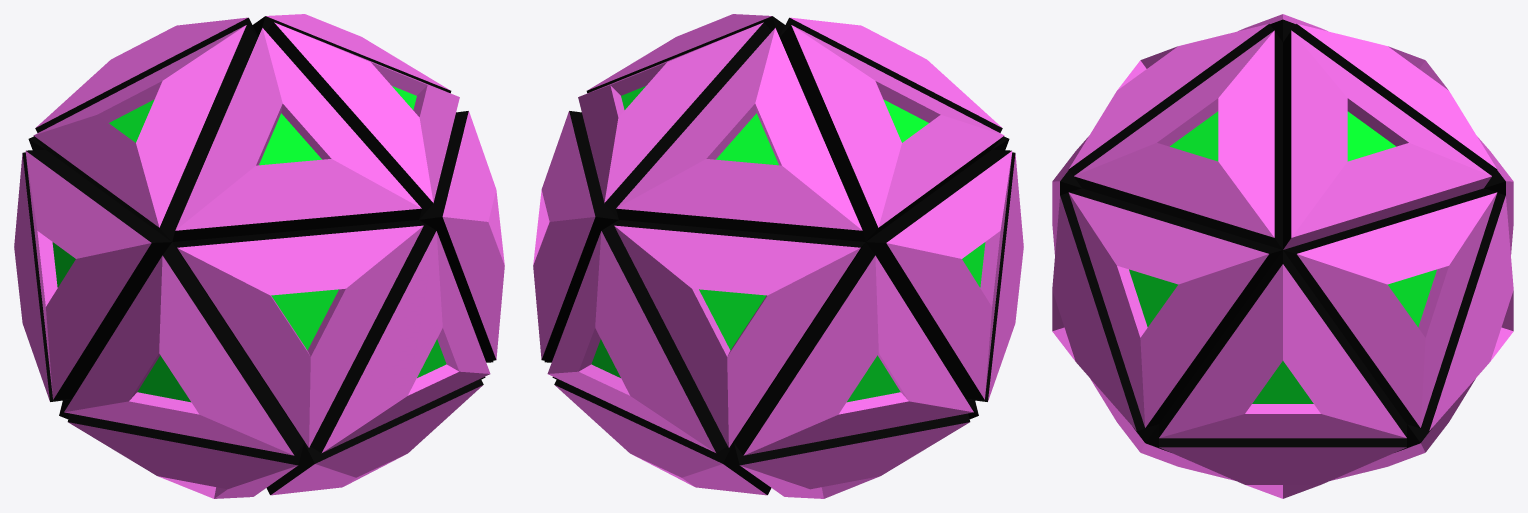
Rendered from ball1.fbx.
3 renders of one model, left to right at view 1: azimuth 30°, elevation 25°; view 2: azimuth 150°, elevation 25°; view 3: azimuth 270°, elevation 25°, orthographic.
Parts seen in each view (by area): view 1: Icosphere.003; view 2: Icosphere.003; view 3: Icosphere.003.
Part boxes in pixels (x1,y1,x2,y2): Icosphere.003: [14, 14, 504, 498]; Icosphere.003: [533, 14, 1023, 498]; Icosphere.003: [1052, 14, 1513, 498].
Size of the model in its own units: 206 by 216 by 195.
